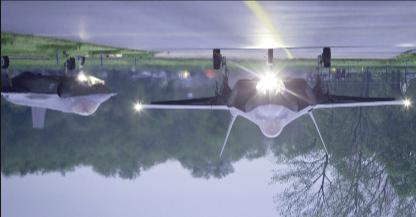F22: (136, 47, 408, 156), (1, 54, 117, 127)
